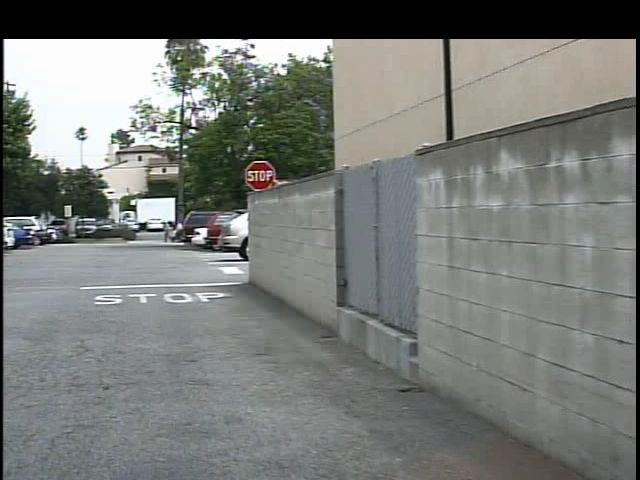person: (150, 219, 164, 246)
